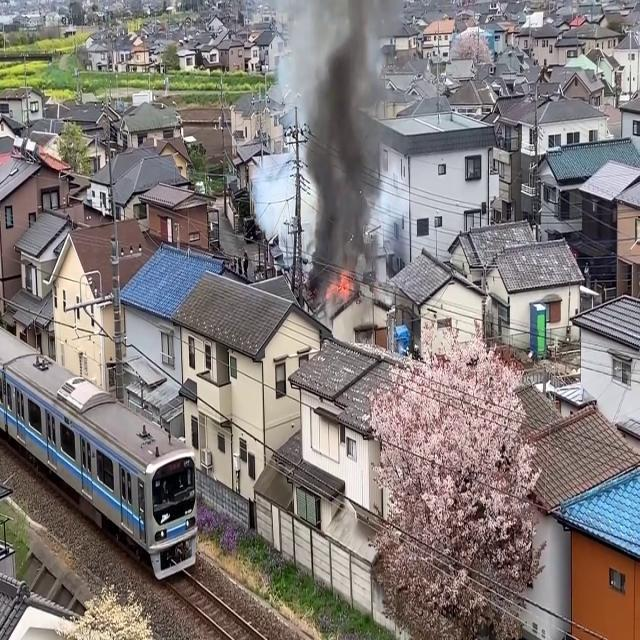Fire: (323, 264, 357, 306)
Smoke: (299, 0, 393, 269)
